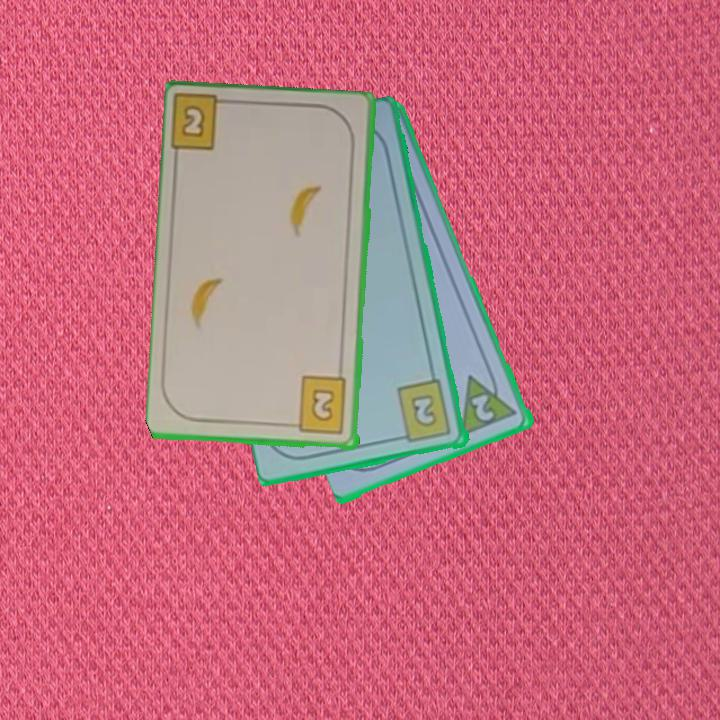2b: (393, 377, 455, 446), (170, 94, 238, 155), (286, 374, 350, 437)
2p: (457, 365, 521, 438)
